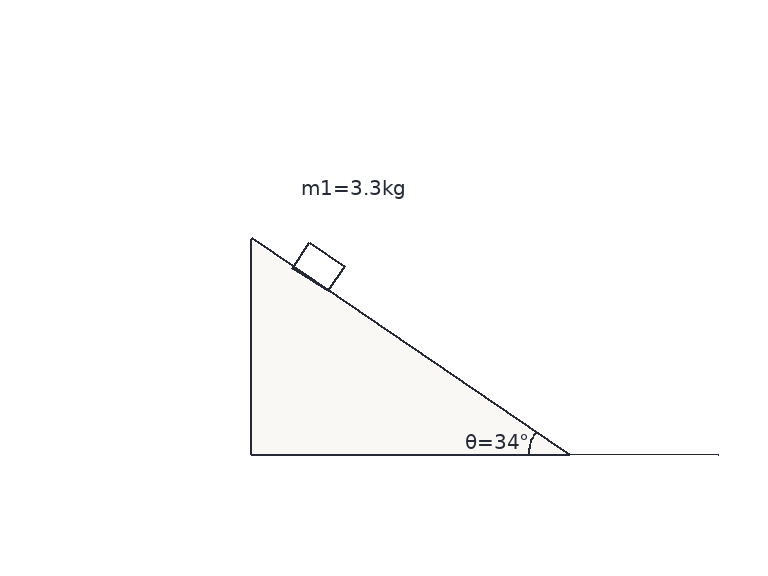block: (290, 240, 346, 293)
ramp: (249, 237, 571, 456)
